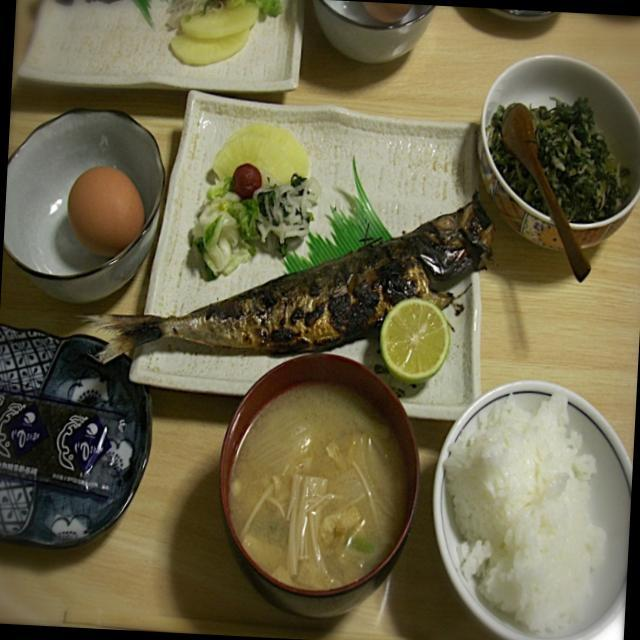Egg: (57, 149, 158, 259)
Rice: (431, 366, 637, 640)
